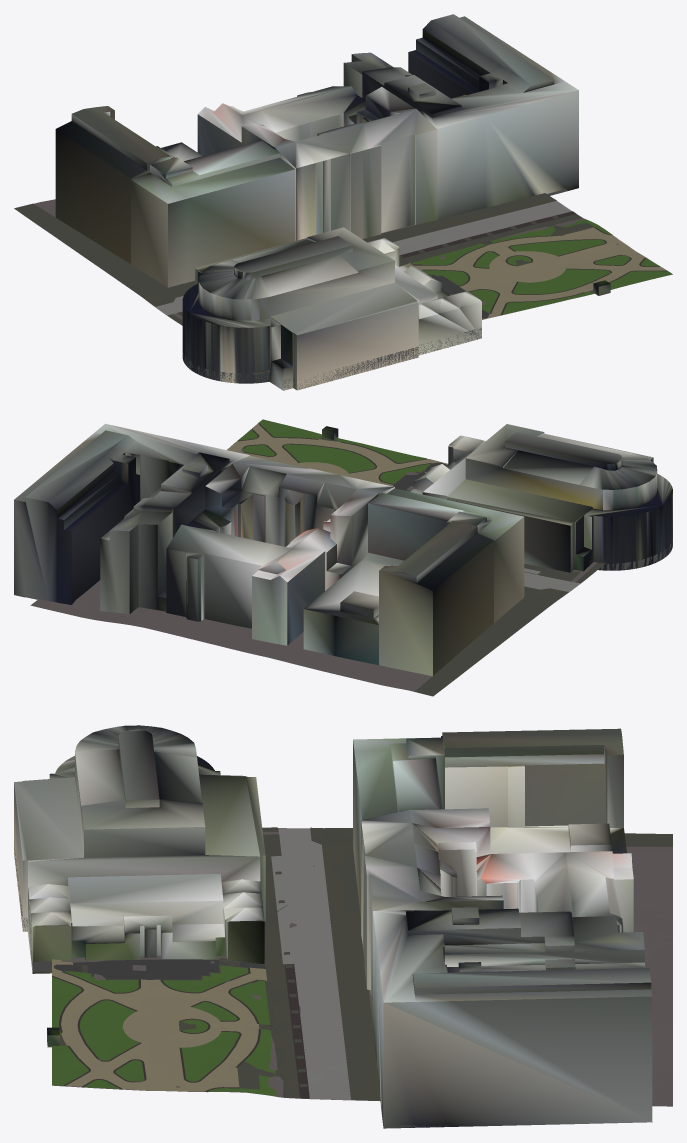
The picture shows the model from 3 angles, top to bottom: view 1: azimuth 30°, elevation 25°; view 2: azimuth 150°, elevation 25°; view 3: azimuth 270°, elevation 25°; orthographic projection. The views are drawn at different scales.
Visible parts, largest first — view 1: c_m04_p01; view 2: c_m04_p01; view 3: c_m04_p01.
Boxes of the visible parts, x1,y1,x2,y2 form: c_m04_p01: [14, 14, 672, 390]; c_m04_p01: [14, 419, 672, 696]; c_m04_p01: [14, 725, 672, 1128].
Bounding box in the file's own units: 148 × 32.37 × 136.
